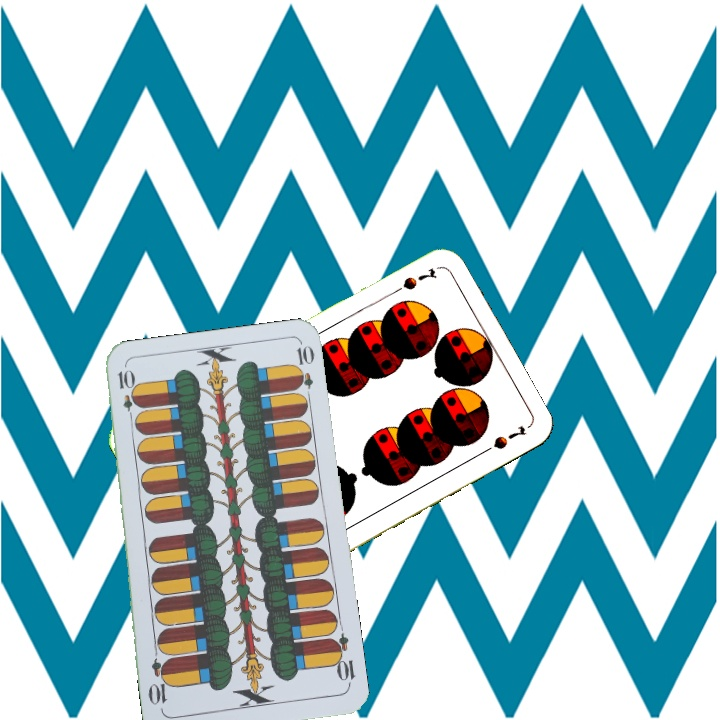E10: (326, 630, 358, 689), (114, 365, 138, 425)
S7: (385, 263, 440, 299)
